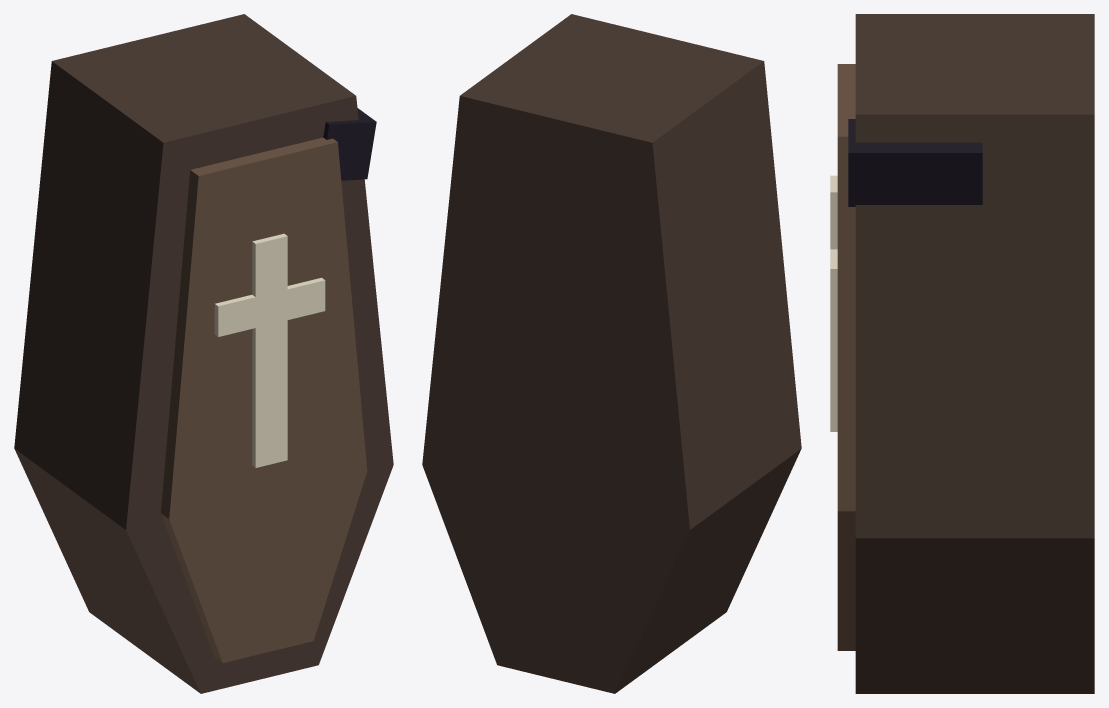
File: env_r4_upright_coffin.glb
The picture shows the model from 3 angles, left to right: view 1: azimuth 30°, elevation 25°; view 2: azimuth 150°, elevation 25°; view 3: azimuth 270°, elevation 25°; orthographic projection. The views are drawn at different scales.
Parts seen in each view (by area): view 1: env_r4_upright_coffin; view 2: env_r4_upright_coffin; view 3: env_r4_upright_coffin.
Part boxes in pixels (x1,y1,x2,y2): env_r4_upright_coffin: (14, 14, 393, 693); env_r4_upright_coffin: (422, 14, 801, 693); env_r4_upright_coffin: (830, 14, 1094, 693).
Size of the model in its own units: 1 by 2 by 0.8.
Materials: 1 (1 with a texture image).
